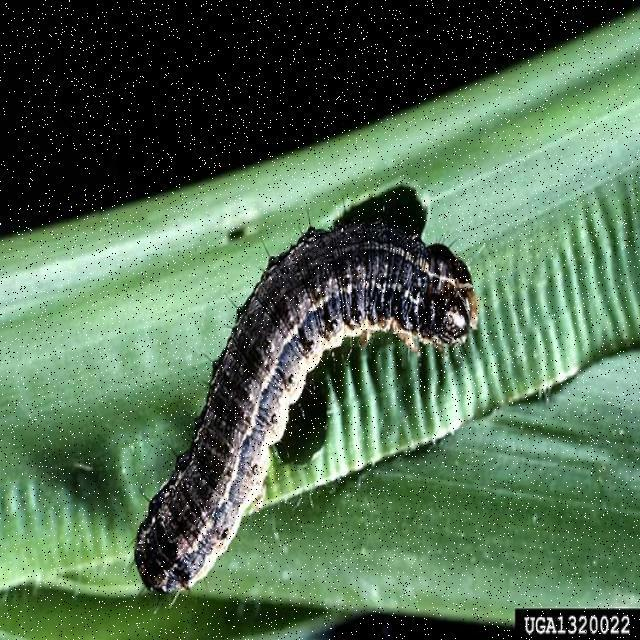army worm: (91, 146, 509, 628)
